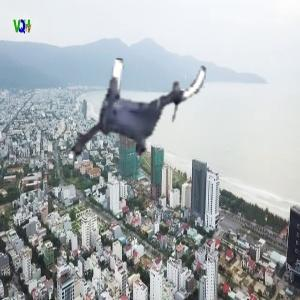drone: (66, 32, 213, 179)
